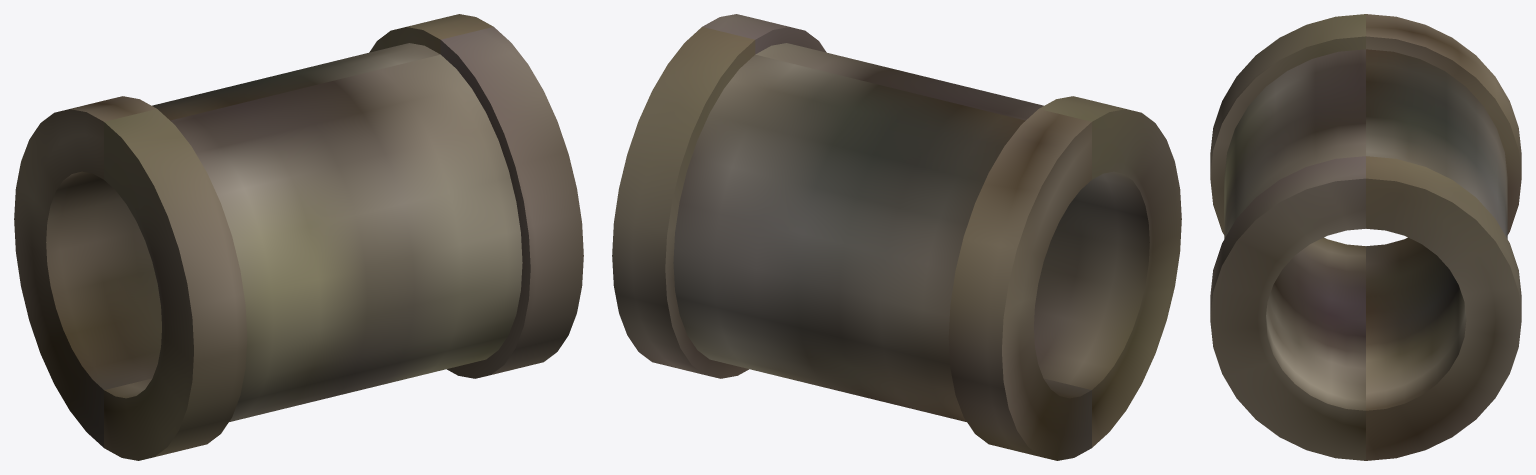
File: pipe-coupling.gltf
3 views of the same model, side by side, from view 1: azimuth 30°, elevation 25°; view 2: azimuth 150°, elevation 25°; view 3: azimuth 270°, elevation 25° (orthographic). The views are drawn at different scales.
Visible parts, largest first — view 1: Pipe_3; view 2: Pipe_3; view 3: Pipe_3.
Boxes of the visible parts, <box> form: Pipe_3: <box>14,14,583,460</box>; Pipe_3: <box>612,14,1181,460</box>; Pipe_3: <box>1210,14,1521,460</box>.
Size of the model in its own units: 0.3514 by 0.2811 by 0.2811.
Materials: 1 (1 with a texture image).
